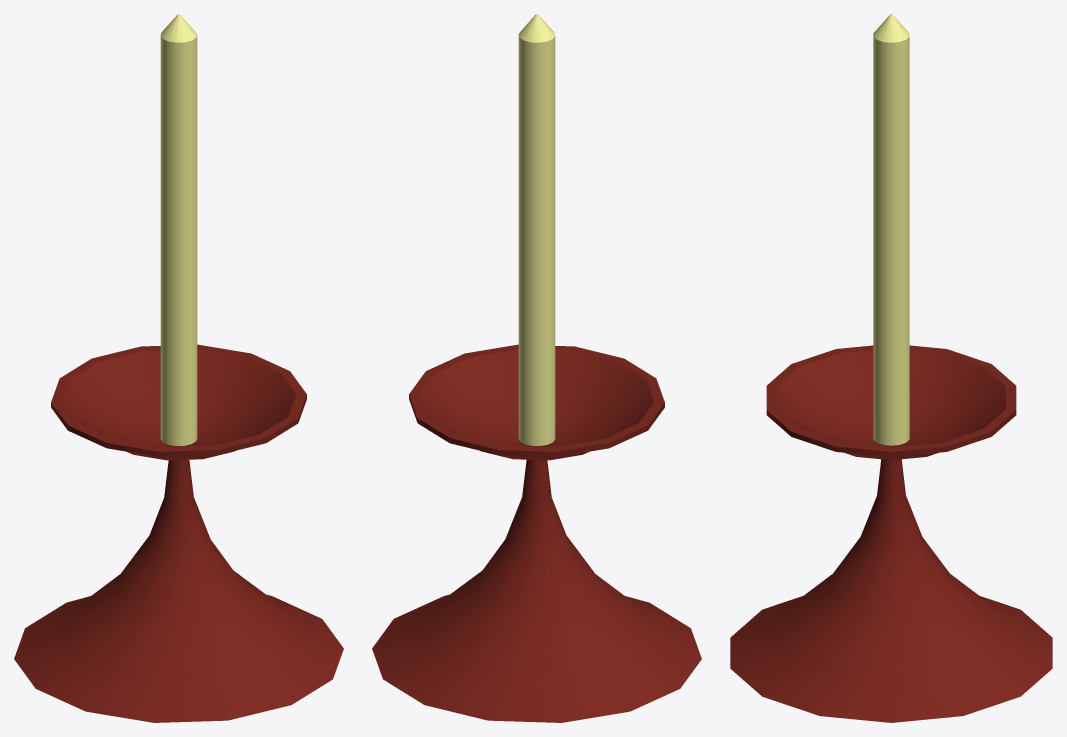
File: CandleBase.FBX
3 views of the same model, side by side, from view 1: azimuth 30°, elevation 25°; view 2: azimuth 150°, elevation 25°; view 3: azimuth 270°, elevation 25° (orthographic).
Visible parts, largest first — view 1: Vela; view 2: Vela; view 3: Vela.
Part boxes in pixels (x1=…): Vela: x1=14, y1=14, x2=343, y2=722; Vela: x1=372, y1=14, x2=701, y2=722; Vela: x1=730, y1=14, x2=1052, y2=722.
Bounding box in the file's own units: 12.8 × 27.3 × 12.48.
